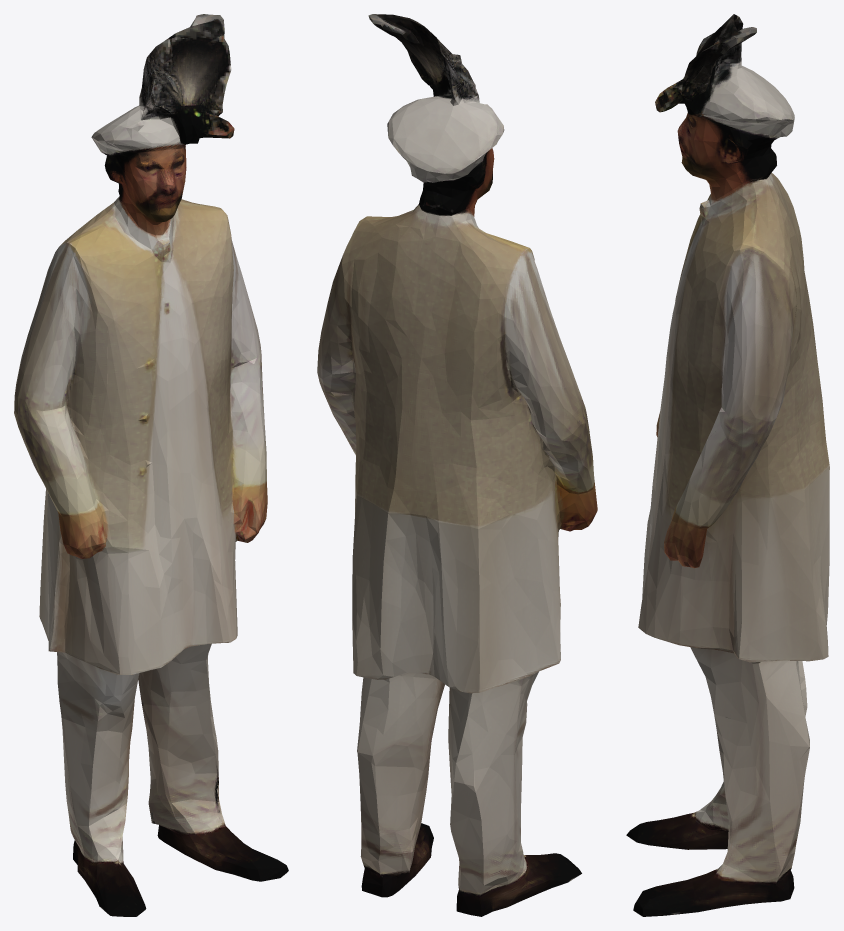
Rendered from atire1.gltf.
3 renders of one model, left to right at view 1: azimuth 30°, elevation 25°; view 2: azimuth 150°, elevation 25°; view 3: azimuth 270°, elevation 25°, orthographic. The views are drawn at different scales.
Visible parts, largest first — view 1: world; view 2: world; view 3: world.
Part boxes in pixels (x1,y1,x2,y2): world: [14, 14, 288, 916]; world: [317, 14, 597, 916]; world: [626, 14, 829, 916].
Bounding box in the file's own units: 0.3123 × 1 × 0.2119.
1 material, 1 textured.
